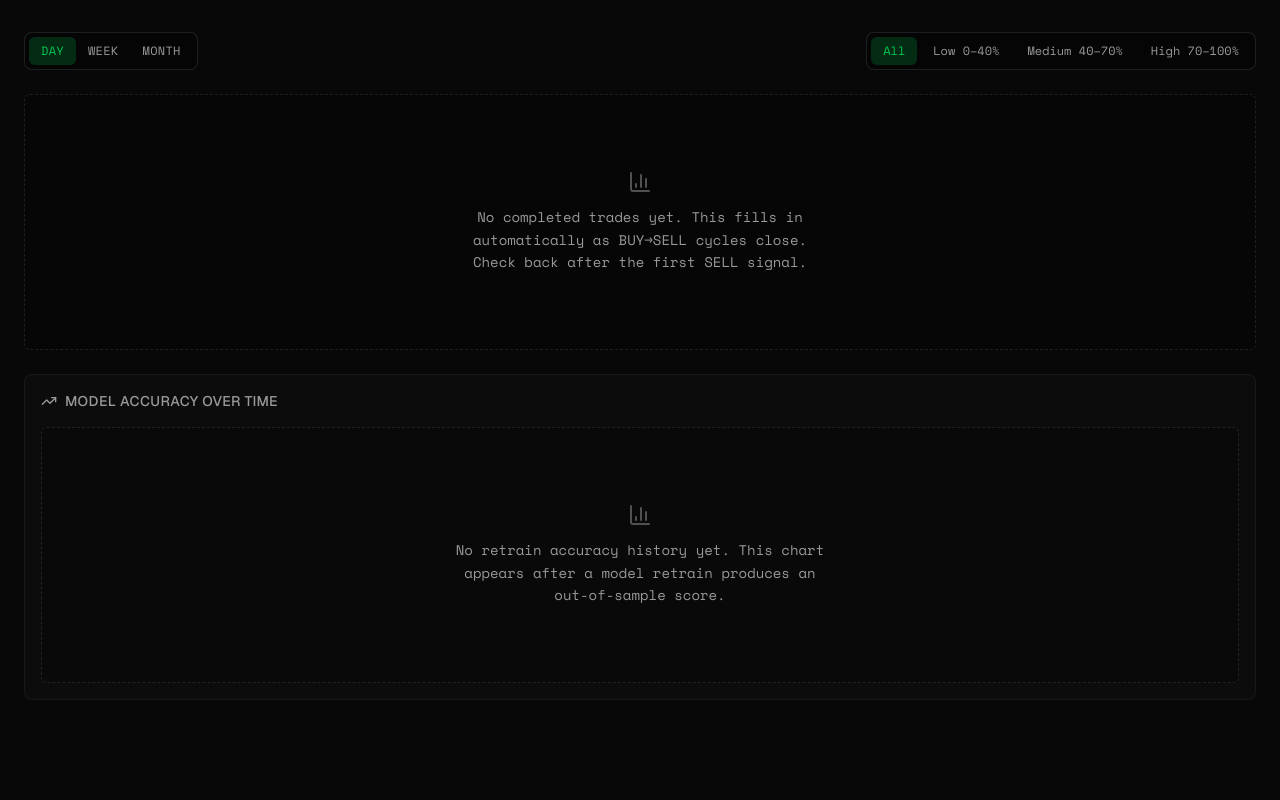
Test: PerformanceDashboard – empty states › shows the confidence-specific empty message when a filter yields zero trades
Check: the element with test id "empty-performance" is shown, box [24,94,1256,350]
Click the button with test id "filter-confidence-high". click: (1195, 51)
box: [1139,37,1251,65]
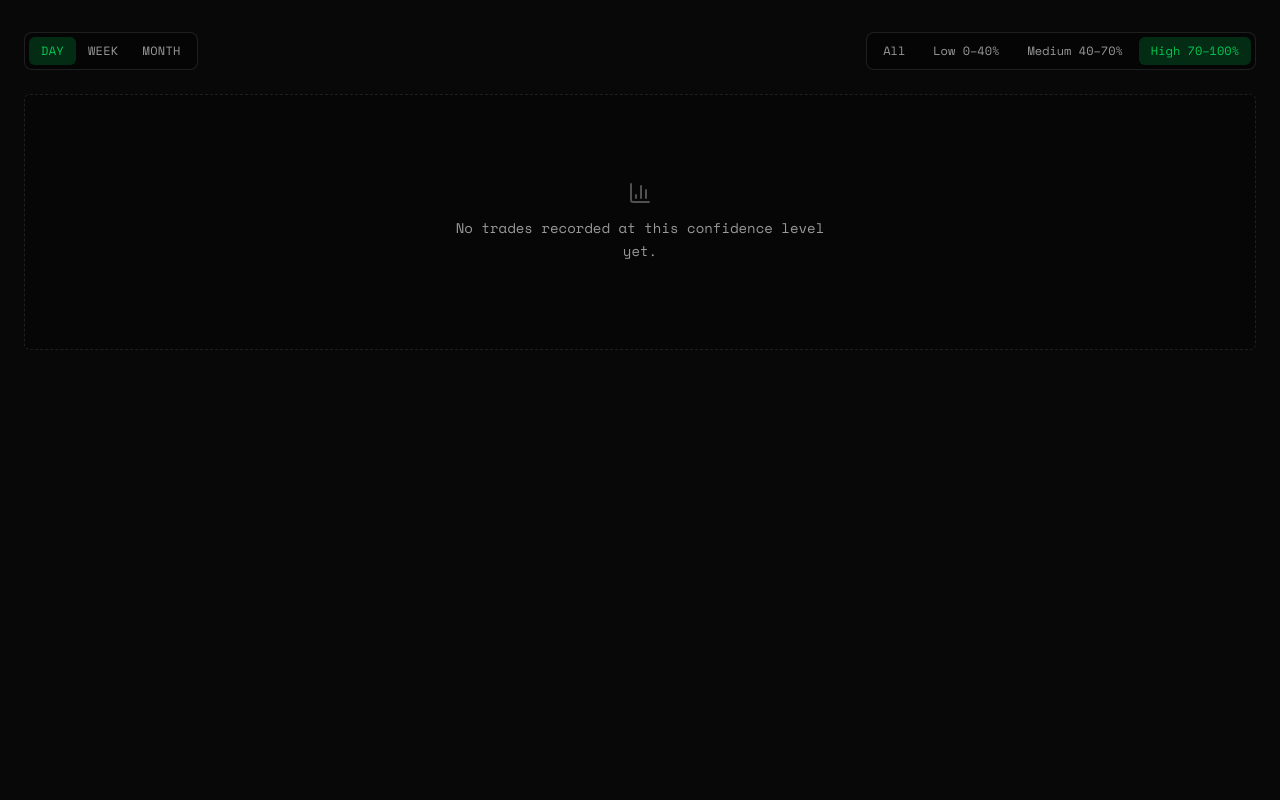
Check: the element with test id "empty-confidence" is shown, box [24,94,1256,350]
Check: the element with test id "empty-confidence" shows "No trades recorded at this confidence level yet", box [456,217,824,261]
